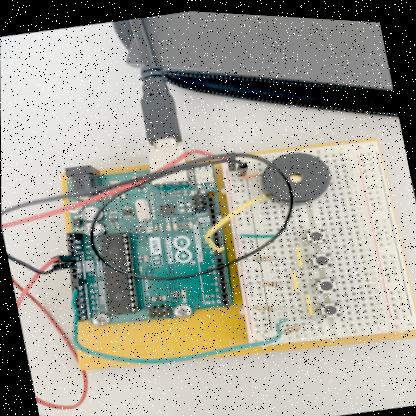5V: (1, 147, 236, 276), (26, 291, 87, 401)
ARDUINO: (66, 160, 233, 326)
Breadboard: (221, 136, 416, 342)
Button: (308, 248, 332, 265), (313, 273, 337, 290), (318, 297, 341, 314), (304, 224, 326, 240)
GND: (1, 148, 295, 278), (94, 152, 290, 274)
Long wire: (69, 289, 287, 362), (204, 191, 266, 249)
Piezo: (260, 148, 331, 203)
Resistor: (281, 320, 302, 331), (251, 251, 276, 259), (257, 277, 285, 284), (253, 301, 276, 308)
Short wire: (305, 291, 313, 312), (291, 268, 299, 288), (295, 242, 302, 263), (239, 230, 274, 234), (241, 170, 260, 176)
